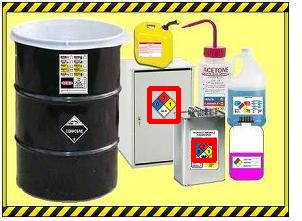nfpa: (149, 88, 178, 121), (193, 140, 214, 160)
